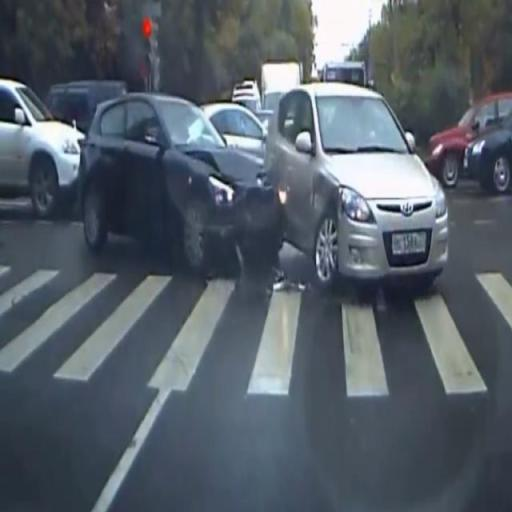小汽车: (0, 80, 78, 219), (428, 96, 494, 188), (461, 115, 512, 190)
小汽车撞小汽车: (86, 88, 448, 286)
